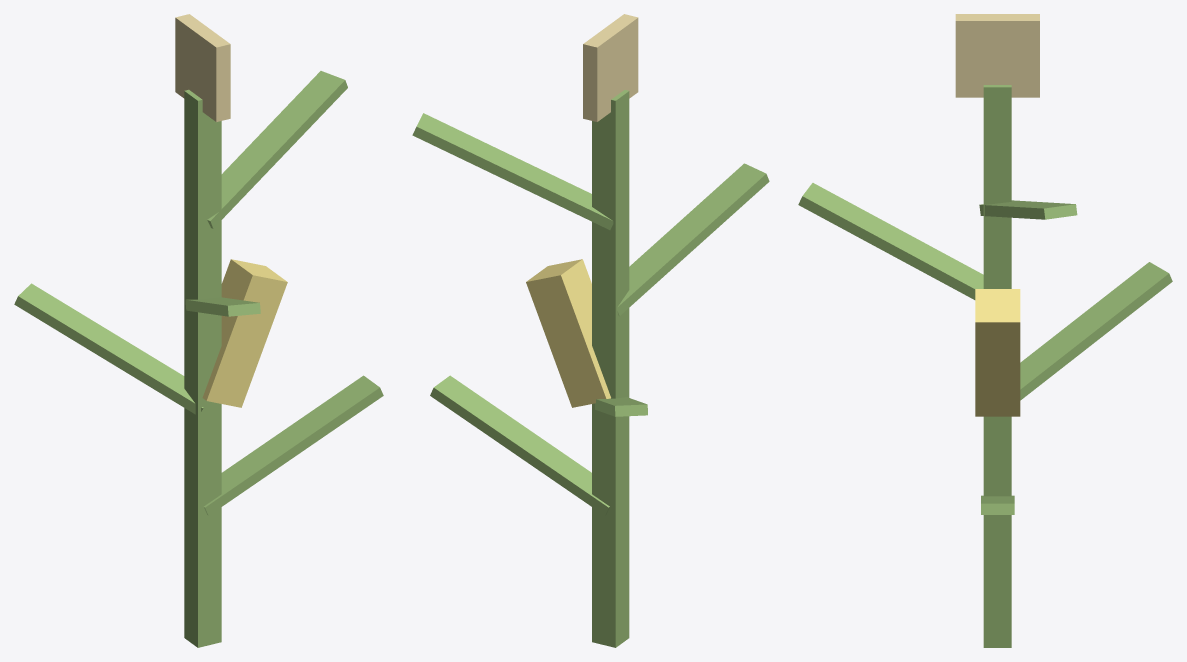
File: corn.glb
The picture shows the model from 3 angles, left to right: view 1: azimuth 30°, elevation 25°; view 2: azimuth 150°, elevation 25°; view 3: azimuth 270°, elevation 25°; orthographic projection. The views are drawn at different scales.
Visible parts, largest first — view 1: corn; view 2: corn; view 3: corn.
Boxes of the visible parts, x1,y1,x2,y2 form: corn: (14, 14, 383, 647); corn: (412, 14, 769, 647); corn: (798, 14, 1172, 647).
Bounding box in the file's own units: 1.2 × 2.45 × 1.33.
